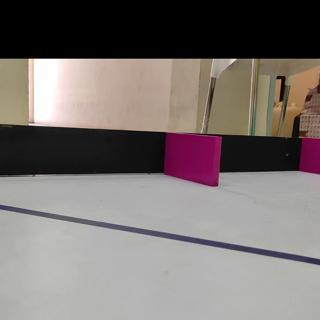xparking: (167, 133, 219, 184), (303, 138, 320, 170)
